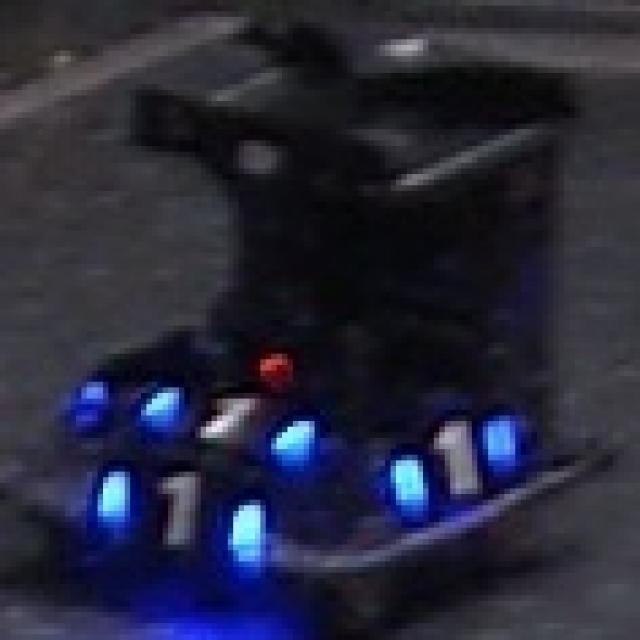B1: (73, 455, 269, 561), (371, 390, 529, 514), (117, 371, 317, 449)
